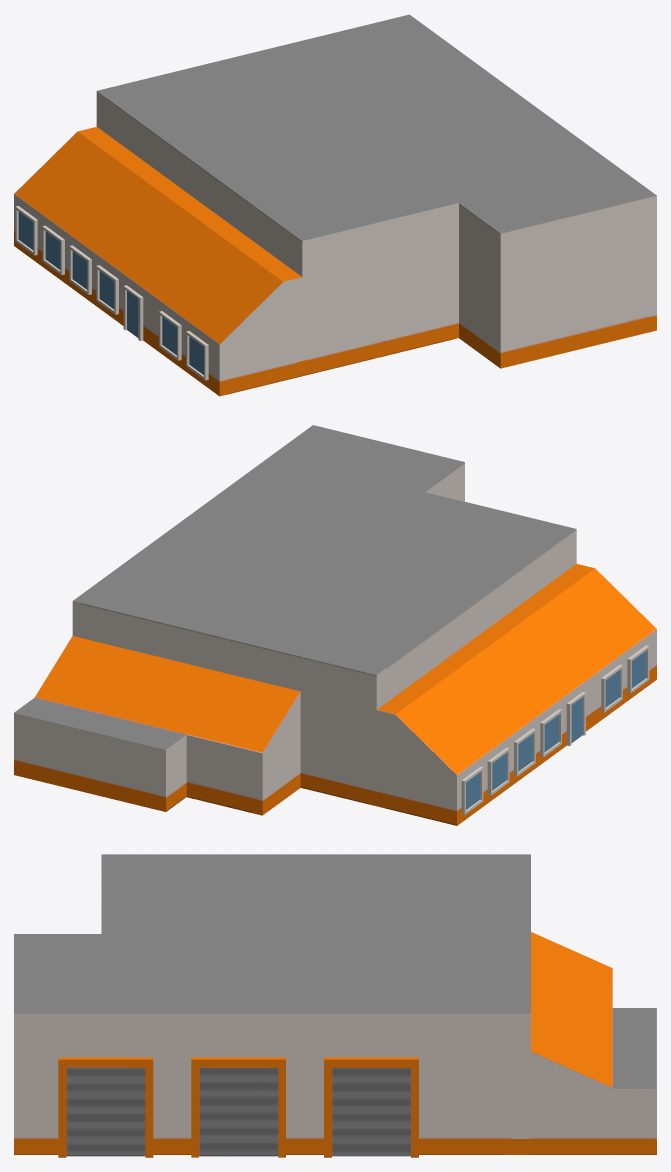
File: HardwareStore.glb
The picture shows the model from 3 angles, top to bottom: view 1: azimuth 30°, elevation 25°; view 2: azimuth 150°, elevation 25°; view 3: azimuth 270°, elevation 25°; orthographic projection. The views are drawn at different scales.
Parts seen in each view (by area): view 1: HardwareStore; view 2: HardwareStore; view 3: HardwareStore.
Boxes of the visible parts, bbox=[...] form: HardwareStore: bbox=[14, 14, 656, 396]; HardwareStore: bbox=[14, 425, 656, 825]; HardwareStore: bbox=[14, 854, 656, 1157].
Size of what is drawn, in the model's own units: 23.74 by 7.59 by 31.32.
Materials: 1 (1 with a texture image).
